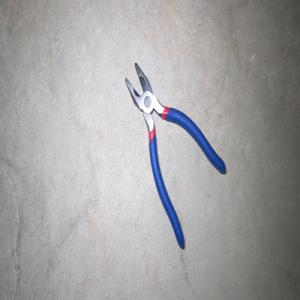Pliers: (124, 62, 226, 249)
